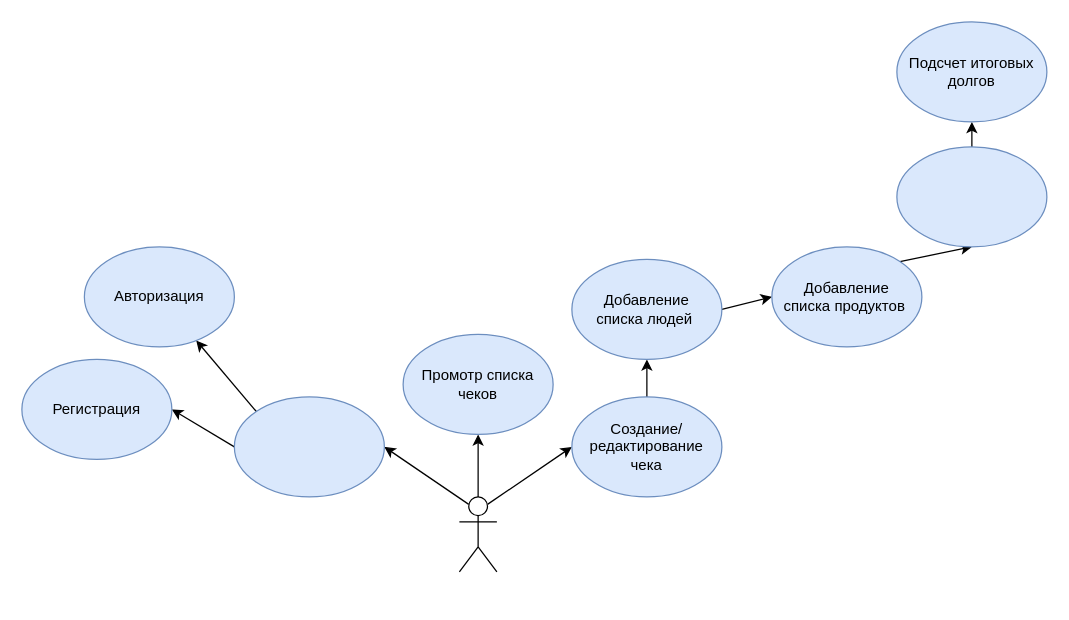
Some shapes in this 1069 by 620 pixel diagram are drawn without their labels. The shapes that lost their labels are listed below. From the top down, each one's centre as x and y in pixels, then its label:
the point at 971,196: Добавление людей, использовавших продукт
the point at 308,446: Идентификация пользователя
the point at 477,534: Пользователь
